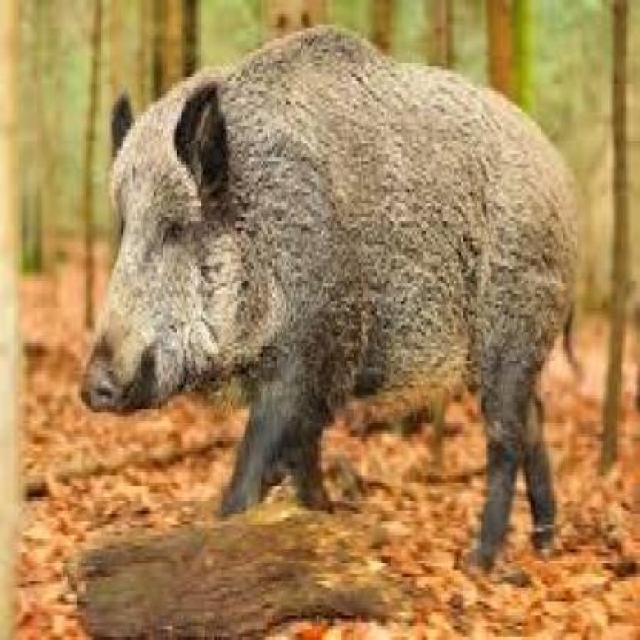wildboar: (74, 21, 589, 576)
